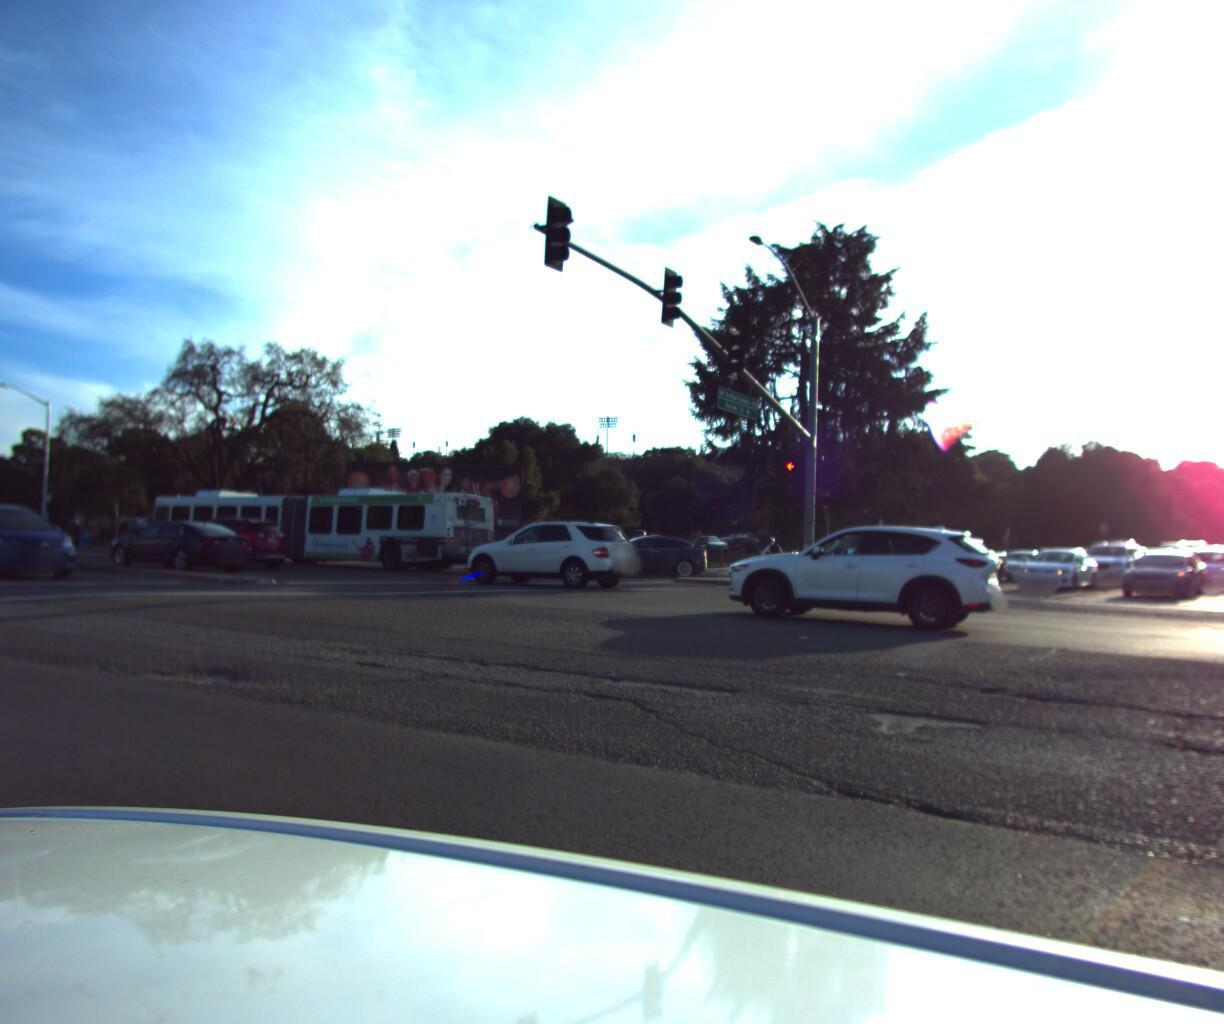bus: (291, 484, 512, 569), (148, 483, 346, 563)
car: (719, 509, 1008, 634), (458, 513, 641, 590), (97, 513, 257, 573), (0, 482, 85, 581), (167, 513, 299, 569), (584, 528, 718, 573), (1114, 544, 1207, 596), (1007, 540, 1099, 588), (1062, 533, 1145, 585), (976, 540, 1051, 581), (1179, 540, 1224, 584), (1221, 539, 1224, 567)
